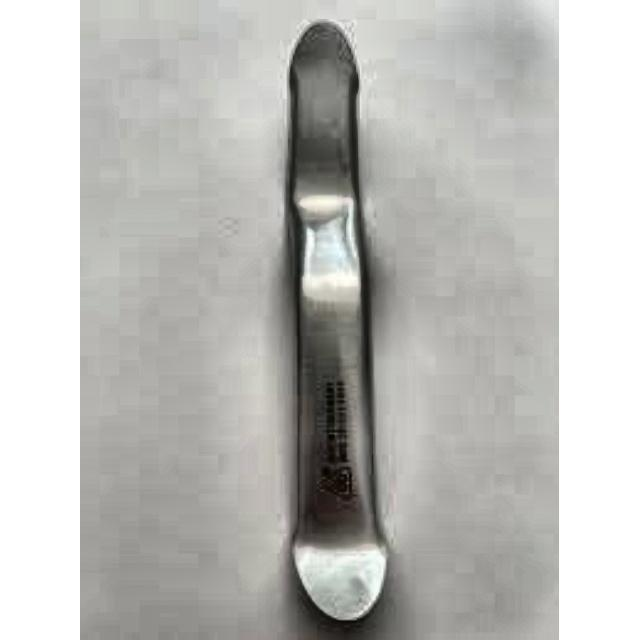separador: (283, 20, 389, 626)
